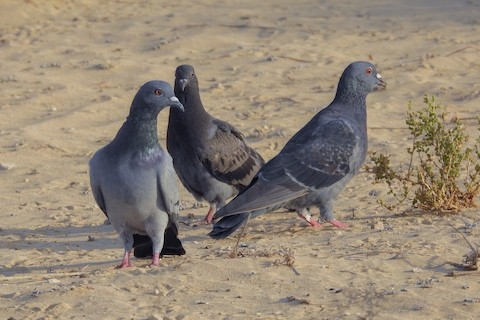pigeon: (206, 59, 390, 244), (165, 64, 305, 228), (84, 77, 196, 272)
